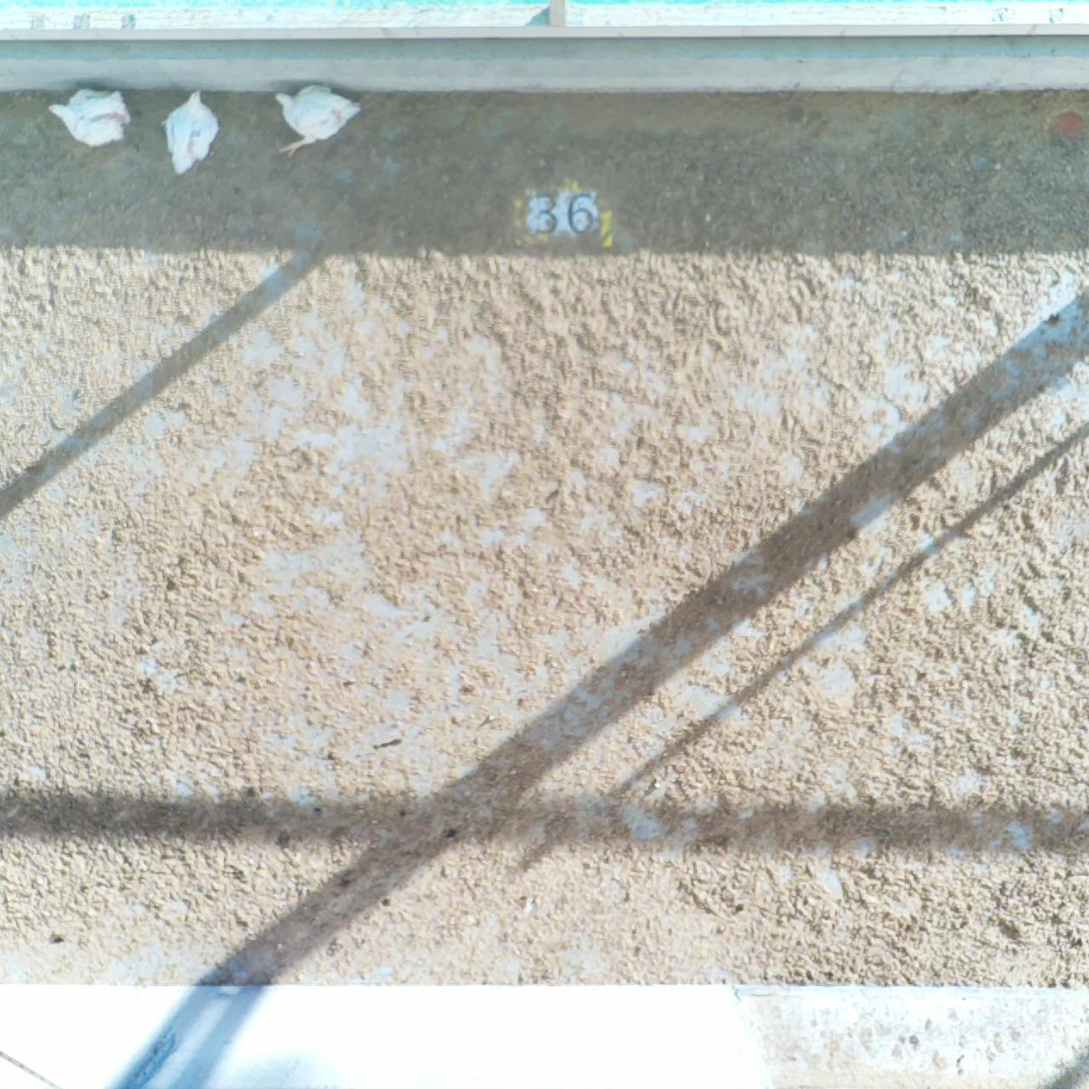chicken: (276, 86, 360, 160), (43, 86, 132, 146), (160, 90, 217, 172)
